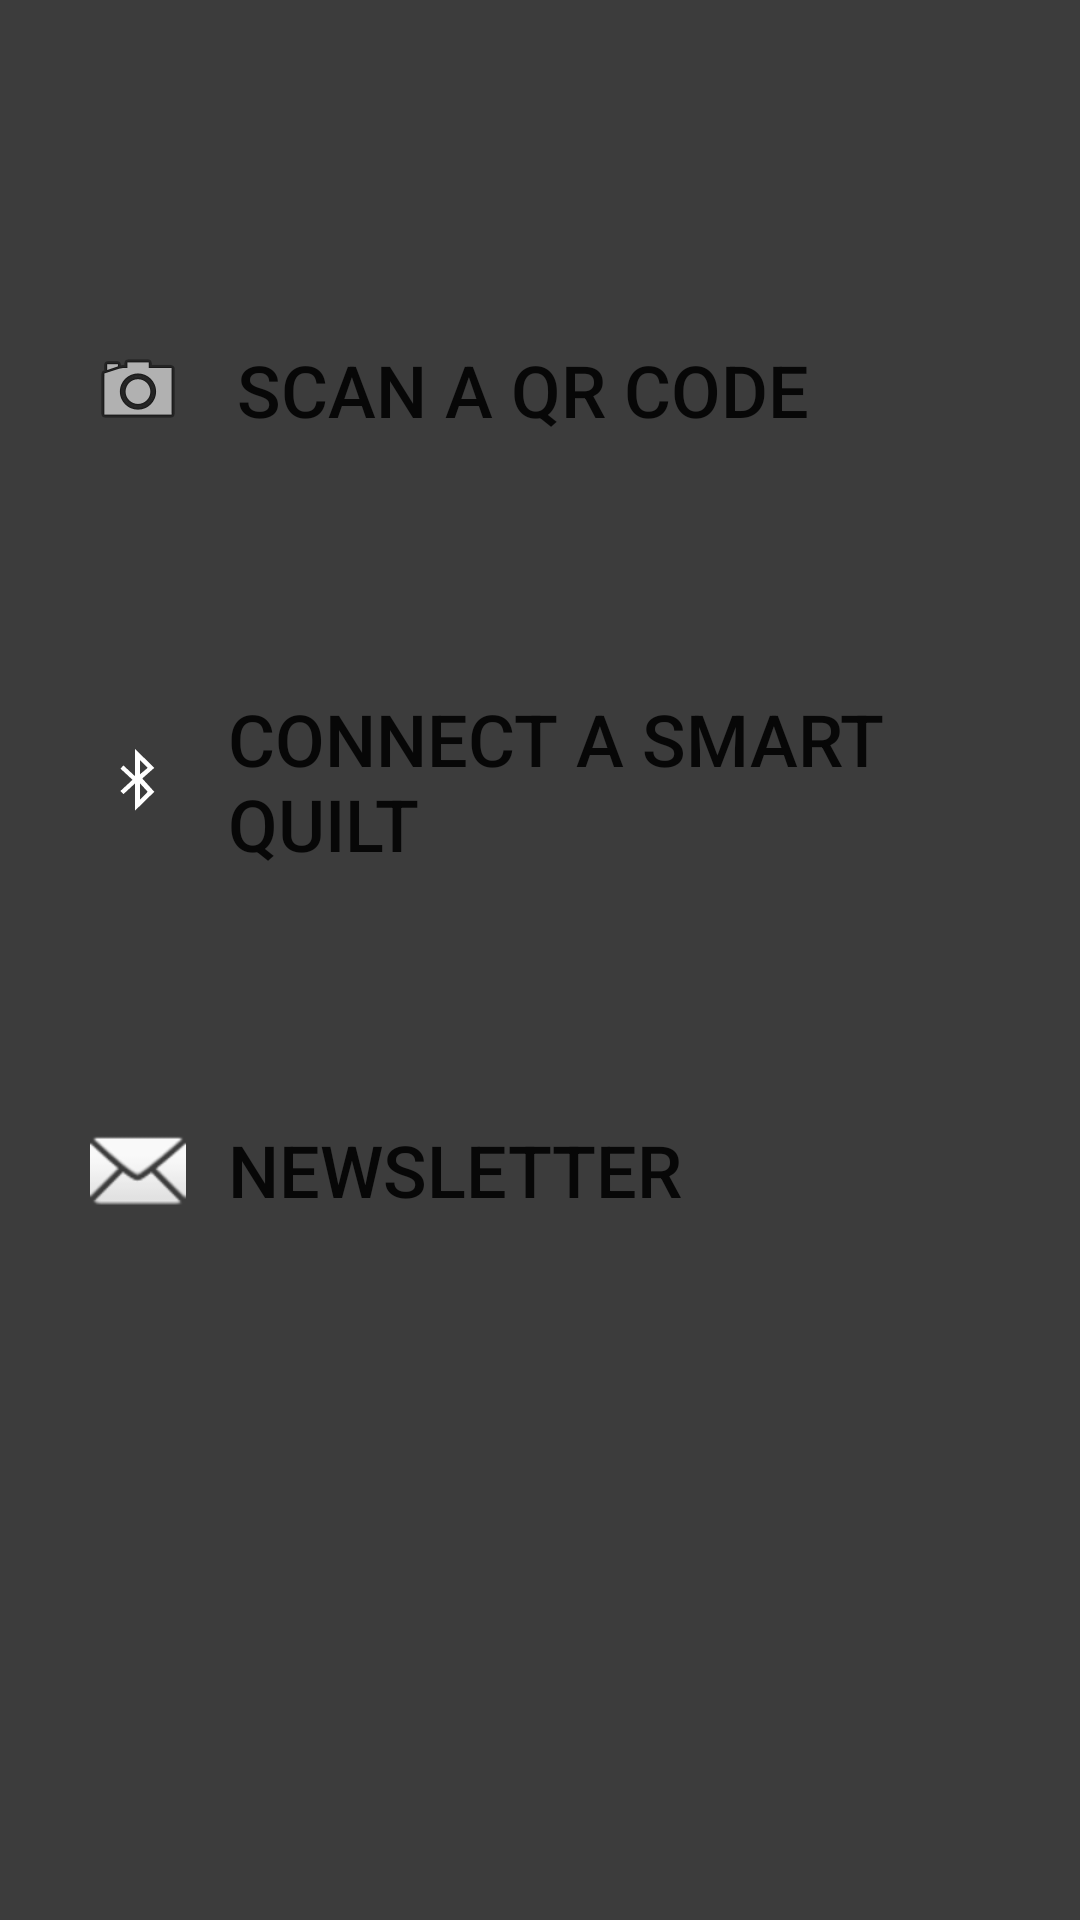

Named icons in this screenshot (1080px x 1920px) and their centers, point (x, y):
email: point (138, 1171)
